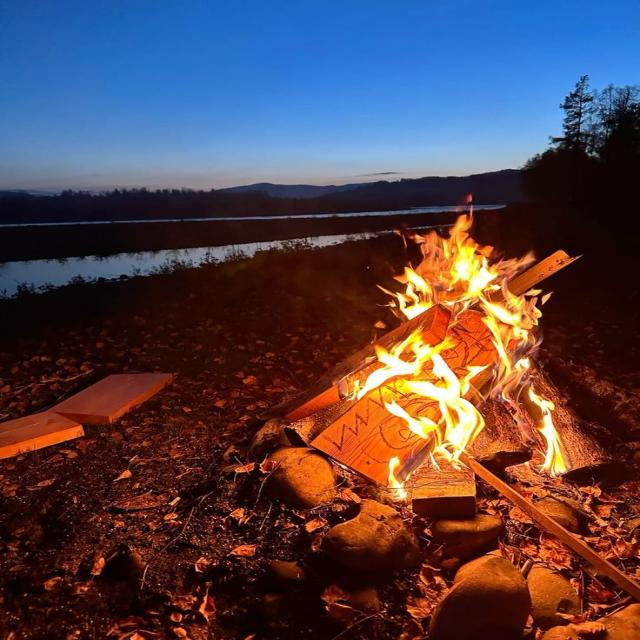fire: (354, 212, 569, 501)
